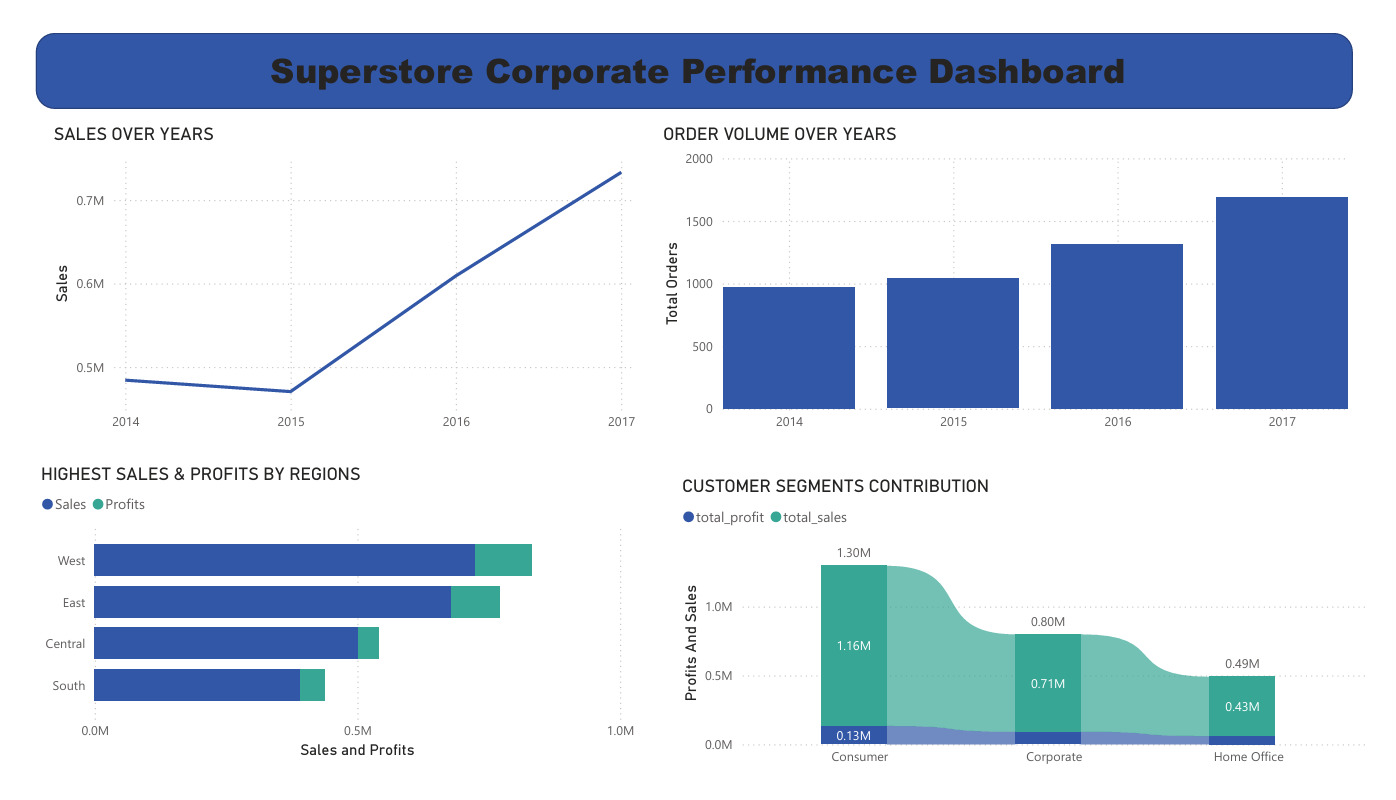

Layout of this report page (visuals, bound fields, positions):
{"tool":"powerbi","page":{"name":"Dashboard_1","canvas":[1280,720],"ordinal":0},"visuals":[{"type":"lineChart","title":"SALES OVER YEARS","fields":{"Category":["public v_sales_over_years.order_year"],"Y":["Sum(public v_sales_over_years.total_sales)"]},"box":[22.8,99.8,561.8,301],"z":0},{"type":"columnChart","title":"ORDER VOLUME OVER YEARS","fields":{"Category":["public v_order_volume_over_years.order_year"],"Y":["Sum(public v_order_volume_over_years.total_orders)"]},"box":[602.1,99.8,659.8,301],"z":1000},{"type":"barChart","title":"HIGHEST SALES & PROFITS BY REGIONS","fields":{"Category":["public v_regional_sales_profit.region"],"Y":["Sum(public v_regional_sales_profit.sales)","Sum(public v_regional_sales_profit.profits)"]},"box":[10.5,421.8,574.1,285.3],"z":2000},{"type":"ribbonChart","title":"CUSTOMER SEGMENTS CONTRIBUTION","fields":{"Category":["public v_segment_sales_profit.segment"],"Y":["Sum(public v_segment_sales_profit.total_profit)","Sum(public v_segment_sales_profit.total_sales)"]},"box":[619.6,434.1,659.8,285.3],"z":3000},{"type":"shape","box":[10.5,14,1251.4,71.8],"z":4000},{"type":"textbox","box":[45.5,21,1188.4,57.8],"z":5000}]}

Visuals, with their boxes in screenshot pixels (x1, y1, x2, y2), scaled from the page's 1280x720 canvas onto the 1396x800 screenshot:
"SALES OVER YEARS" lineChart: box(25, 111, 638, 445)
"ORDER VOLUME OVER YEARS" columnChart: box(657, 111, 1376, 445)
"HIGHEST SALES & PROFITS BY REGIONS" barChart: box(11, 469, 638, 786)
"CUSTOMER SEGMENTS CONTRIBUTION" ribbonChart: box(676, 482, 1395, 799)
shape: box(11, 16, 1376, 95)
textbox: box(50, 23, 1346, 88)
